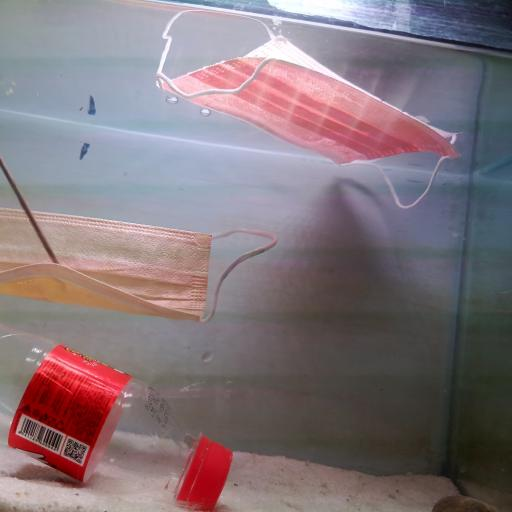bottle_cap: (182, 434, 236, 510)
mask: (150, 49, 462, 204), (0, 204, 274, 320)
plastic_bottle: (2, 331, 239, 505)
